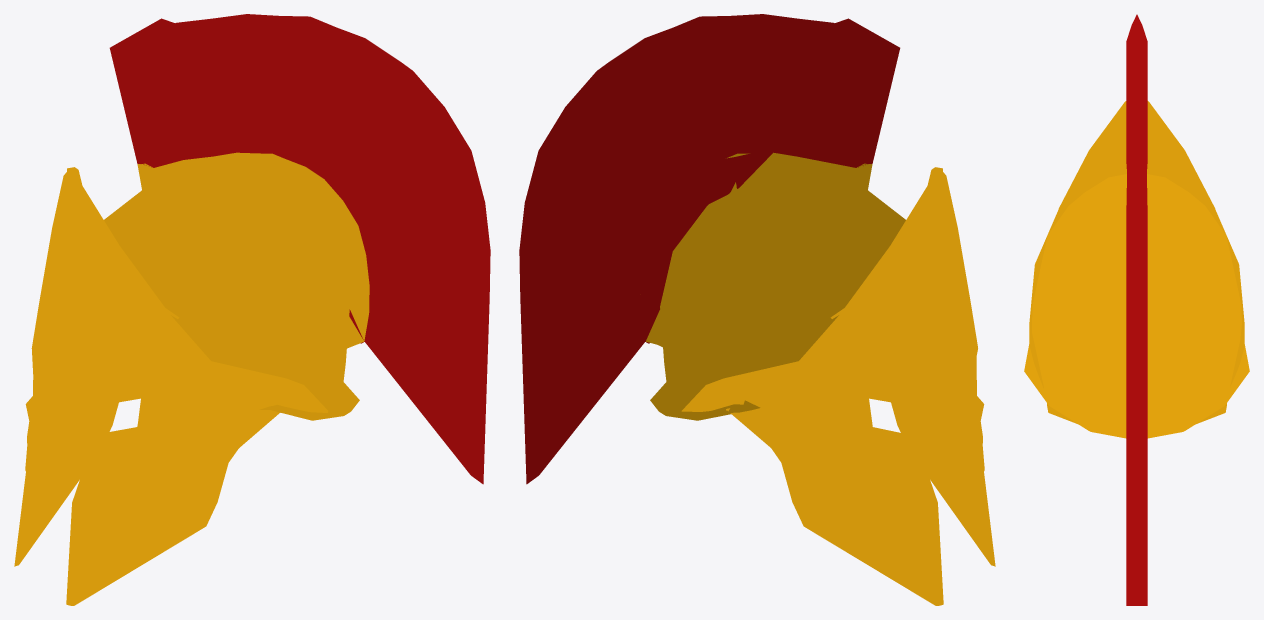
The model's file is spartan.dae.
The picture shows the model from 3 angles, left to right: view 1: azimuth 30°, elevation 25°; view 2: azimuth 150°, elevation 25°; view 3: azimuth 270°, elevation 25°; orthographic projection. The views are drawn at different scales.
Visible parts, largest first — view 1: sphere2_cut3-0, Cube6-0, sphere2-0; view 2: sphere2_cut3-0, Cube6-0, sphere2-0; view 3: sphere2-0, sphere2_cut3-0, Cube6-0.
Part boxes in pixels (<box>): sphere2_cut3-0: <box>109,14,490,484</box>; Cube6-0: <box>14,167,328,605</box>; sphere2-0: <box>104,152,369,420</box>; sphere2_cut3-0: <box>519,14,900,484</box>; Cube6-0: <box>681,167,995,605</box>; sphere2-0: <box>646,152,905,420</box>; sphere2-0: <box>1024,174,1249,438</box>; sphere2_cut3-0: <box>1126,14,1147,605</box>; Cube6-0: <box>1029,101,1244,423</box>.
Bounding box in the file's own units: 24.91 × 28.01 × 12.66.
